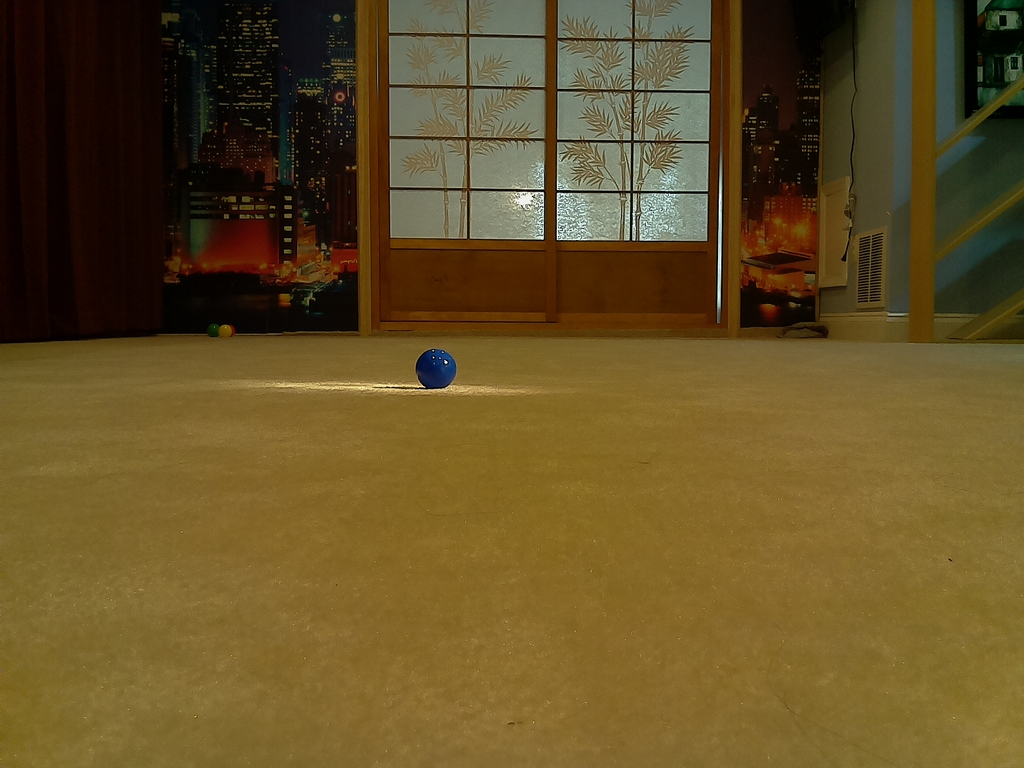ball: (416, 350, 455, 388)
